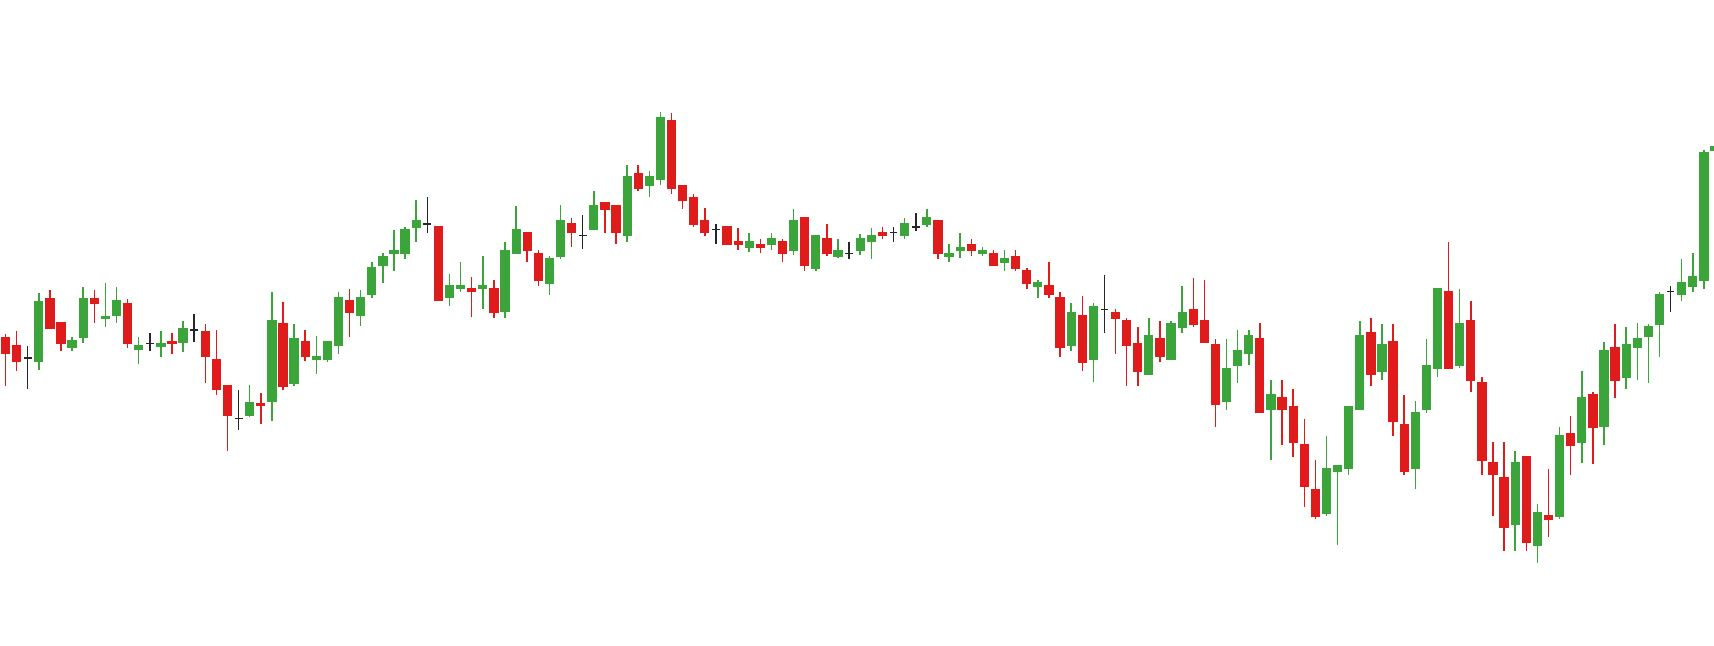buy: (1329, 381, 1524, 559)
